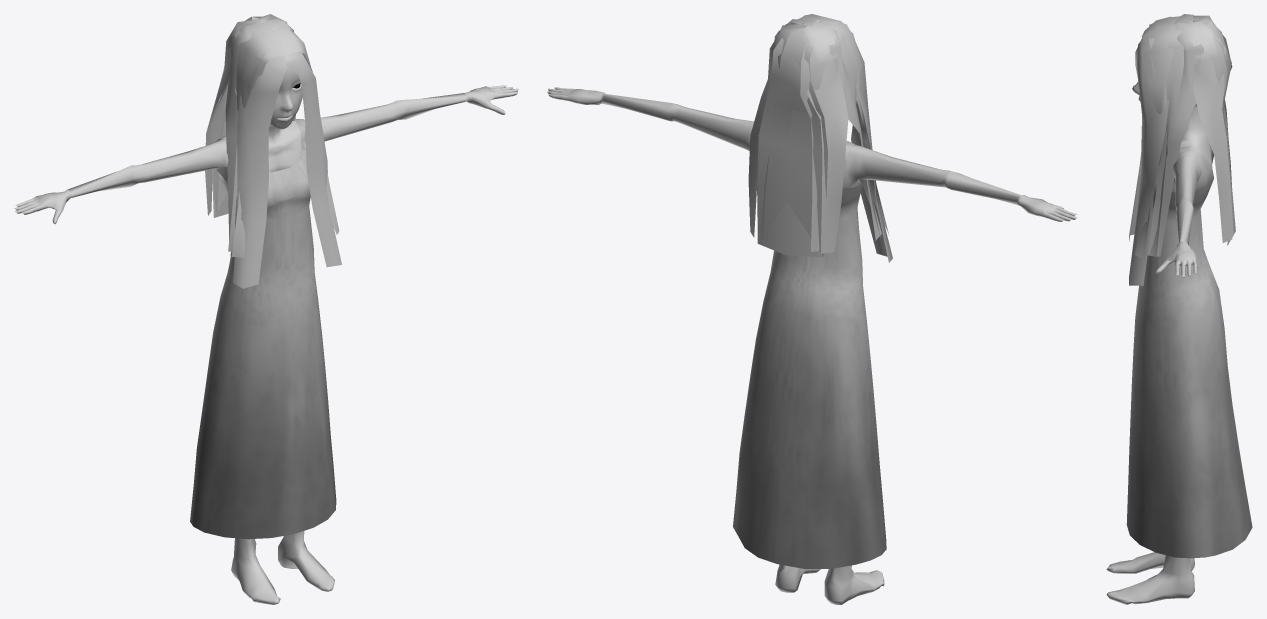
Rendered from test_girl.fbx.
3 views of the same model, side by side, from view 1: azimuth 30°, elevation 25°; view 2: azimuth 150°, elevation 25°; view 3: azimuth 270°, elevation 25° (orthographic). The views are drawn at different scales.
Parts seen in each view (by area): view 1: Girl_one_piece, Girl_body, Girl_hair_poly6, Girl_hair_poly12, Girl_hair_poly3, Girl_hair_poly5, Girl_hair_poly4, Girl_hair_poly1, Girl_hair_poly2, Girl_hair_poly11; view 2: Girl_one_piece, Girl_hair_poly13, Girl_body, Girl_hair_poly2, Girl_hair_poly1, Girl_hair_poly6, Girl_hair_poly8, Girl_hair_poly3, Girl_hair_poly4, Girl_hair_poly5; view 3: Girl_one_piece, Girl_body, Girl_hair_poly12, Girl_hair_poly9, Girl_hair_poly8, Girl_hair_poly11, Girl_hair_poly10, Girl_hair_poly7, Girl_hair_poly13, Girl_hair_poly6, Girl_hair_poly1.
Part boxes in pixels (box(x1,y1,x2,y2)): Girl_one_piece: box(190, 119, 336, 539); Girl_body: box(14, 67, 518, 604); Girl_hair_poly6: box(233, 55, 287, 288); Girl_hair_poly12: box(284, 51, 341, 267); Girl_hair_poly3: box(225, 23, 270, 240); Girl_hair_poly5: box(231, 30, 287, 257); Girl_hair_poly4: box(228, 31, 272, 251); Girl_hair_poly1: box(211, 19, 263, 213); Girl_hair_poly2: box(205, 22, 260, 215); Girl_hair_poly11: box(271, 28, 339, 234); Girl_one_piece: box(733, 141, 886, 569); Girl_hair_poly13: box(757, 30, 827, 257); Girl_body: box(547, 87, 1077, 604); Girl_hair_poly2: box(807, 25, 848, 253); Girl_hair_poly1: box(800, 25, 837, 251); Girl_hair_poly6: box(855, 42, 892, 262); Girl_hair_poly8: box(748, 22, 804, 237); Girl_hair_poly3: box(810, 21, 881, 240); Girl_hair_poly4: box(818, 20, 880, 237); Girl_hair_poly5: box(817, 17, 889, 235); Girl_one_piece: box(1126, 146, 1252, 558); Girl_body: box(1106, 24, 1212, 604); Girl_hair_poly12: box(1129, 39, 1169, 285); Girl_hair_poly9: box(1147, 23, 1203, 256); Girl_hair_poly8: box(1186, 24, 1232, 242); Girl_hair_poly11: box(1134, 23, 1173, 258); Girl_hair_poly10: box(1149, 24, 1183, 257); Girl_hair_poly7: box(1189, 22, 1233, 235); Girl_hair_poly13: box(1202, 20, 1235, 245); Girl_hair_poly6: box(1129, 38, 1142, 241); Girl_hair_poly1: box(1185, 15, 1232, 183).
Bounding box in the file's own units: 13.29 × 13.79 × 3.24.
